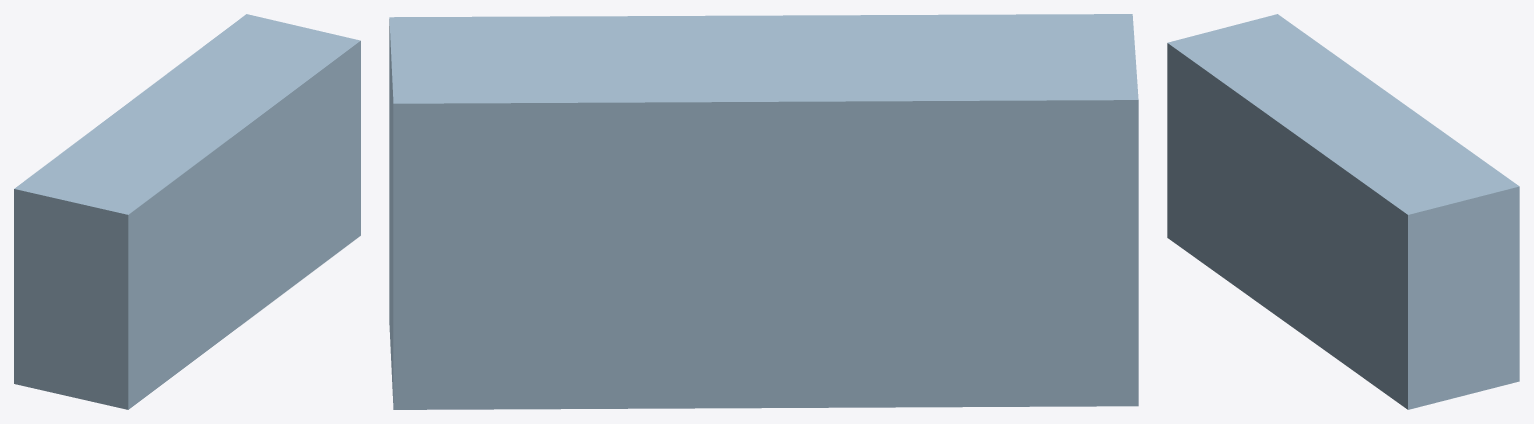
Rendered from osm_way_1173057027.glb.
3 views of the same model, side by side, from view 1: azimuth 30°, elevation 25°; view 2: azimuth 150°, elevation 25°; view 3: azimuth 270°, elevation 25° (orthographic). The views are drawn at different scales.
Visible parts, largest first — view 1: osm_way_1173057027; view 2: osm_way_1173057027; view 3: osm_way_1173057027.
Part boxes in pixels (x1=…): osm_way_1173057027: x1=14, y1=14, x2=360, y2=409; osm_way_1173057027: x1=389, y1=14, x2=1138, y2=409; osm_way_1173057027: x1=1167, y1=14, x2=1519, y2=409.
Bounding box in the file's own units: 42.43 × 19.2 × 31.45.
